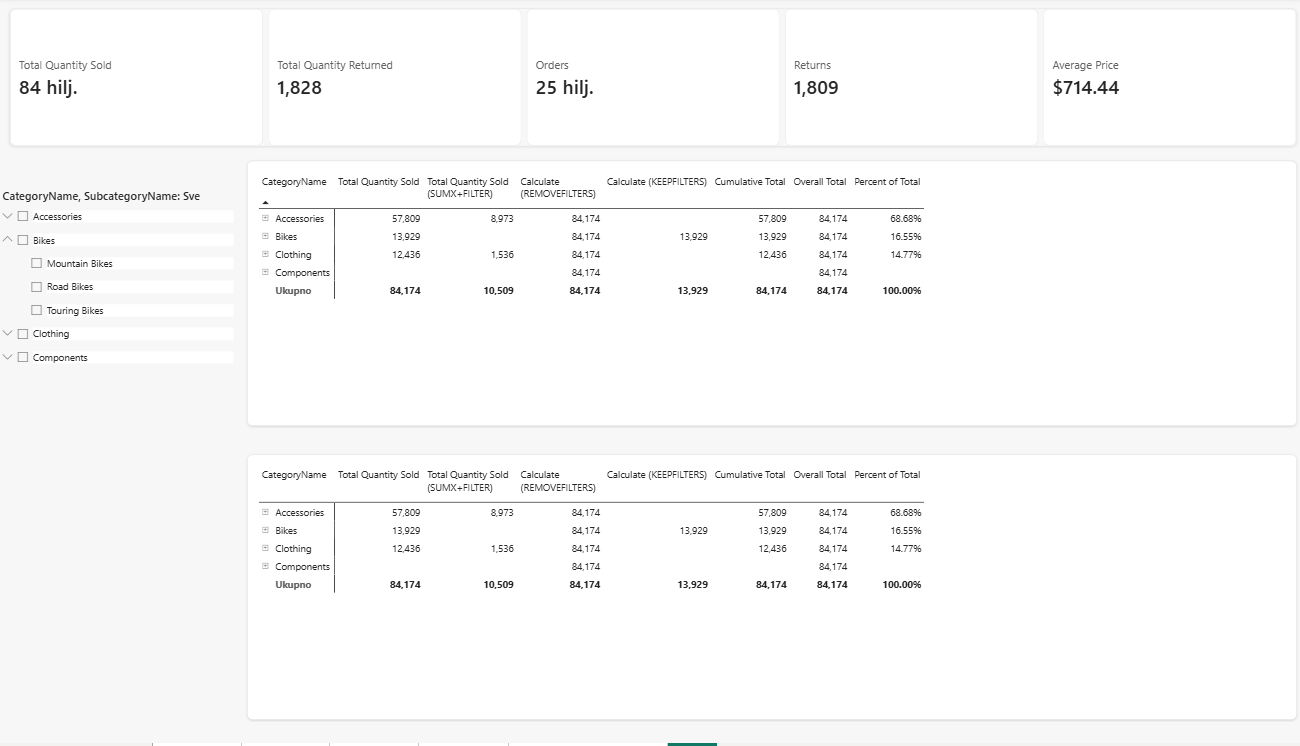

This screenshot's page, from the dashboard's own definition file:
{"tool":"powerbi","page":{"name":"Day 7","canvas":[1920,1080],"ordinal":2},"visuals":[{"type":"tableEx","fields":{"Values":["Dim Categories.CategoryName","Key Measures.Total Quantity Sold","Key Measures.Calculate (Bikes-Subcategory)","Key Measures.Calculate (bikes)","Key Measures.Calculate (Bikes-Subcategory)","Key Measures.Calculate (Multifilter)","Key Measures.Calculate (Filter)","Key Measures.Calculate (Product Filter)","Key Measures.Calculate (Clothing)"]},"box":[18,662.4,1883.9,382],"z":0},{"type":"slicer","fields":{"Values":["Dim Categories.CategoryName"]},"box":[18,539.4,1902,103.3],"z":1},{"type":"cardVisual","fields":{"Data":["Key Measures.Total Quantity Sold","Key Measures.Total Quantity Returned","Key Measures.Orders","Key Measures.Returns","Key Measures.Average Price"]},"box":[18,16.4,1864.3,200],"z":2}]}

Visuals, with their boxes on the page's 1920x1080 design canvas (x1, y1, x2, y2). These are canvas units, not pixel positions in the 1300x746 screenshot, which may show the page scaled, cropped or inside an application window:
tableEx - Dim Categories.CategoryName x Key Measures.Total Quantity Sold: select_region(18, 662, 1902, 1044)
slicer - Dim Categories.CategoryName: select_region(18, 539, 1920, 643)
cardVisual - Key Measures.Total Quantity Sold x Key Measures.Total Quantity Returned: select_region(18, 16, 1882, 216)
